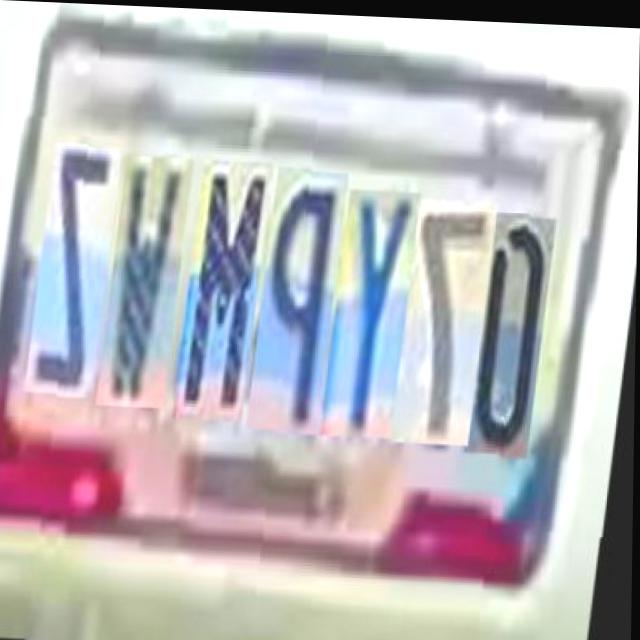0: (476, 205, 563, 448)
7: (402, 192, 504, 439)
m: (183, 158, 278, 421)
p: (258, 164, 355, 430)
w: (107, 155, 199, 408)
y: (332, 183, 428, 434)
z: (35, 146, 128, 399)
